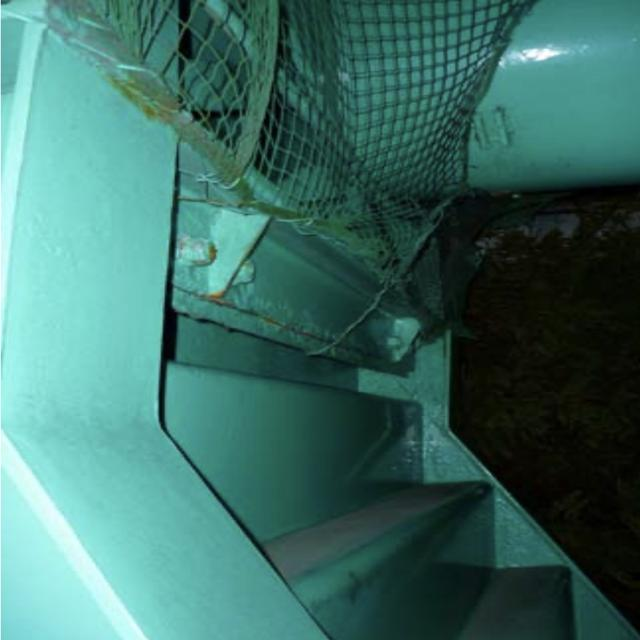corrosion: (119, 74, 287, 314)
